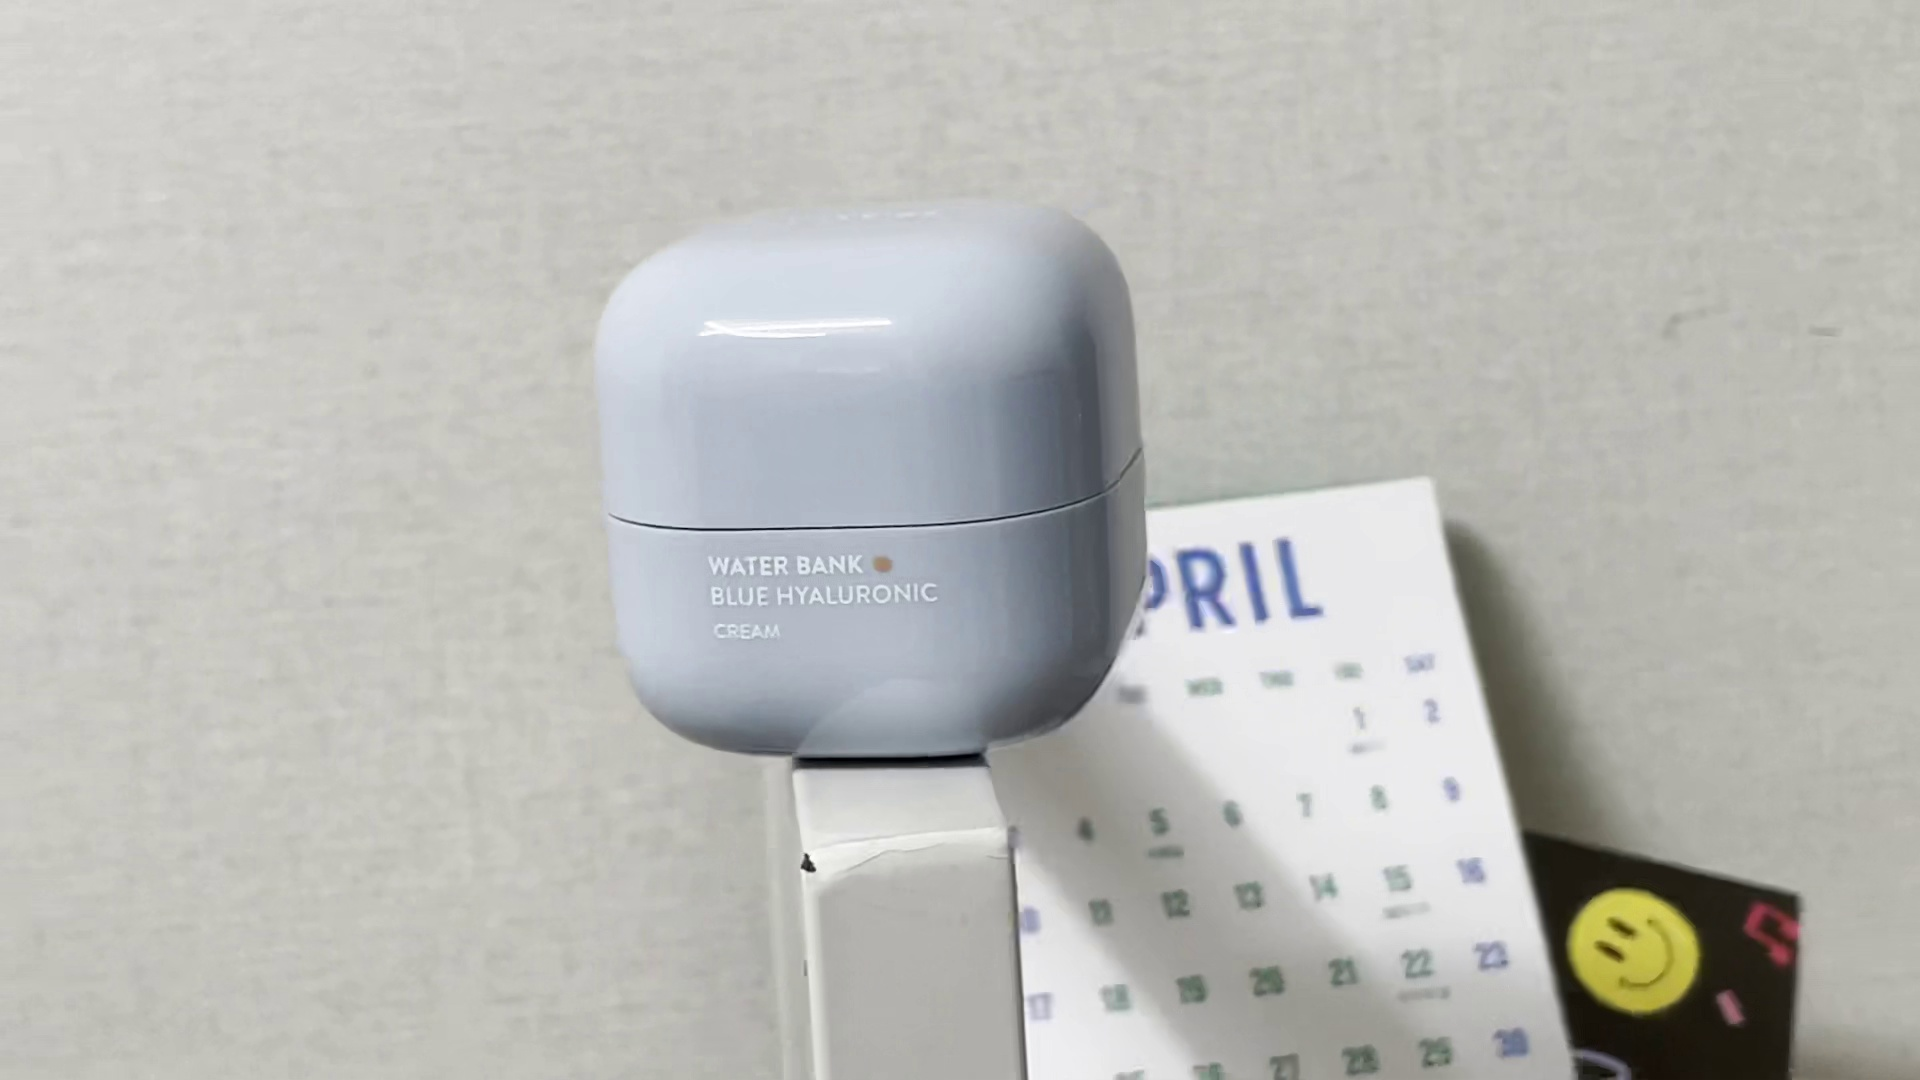cream: (589, 193, 1146, 758)
